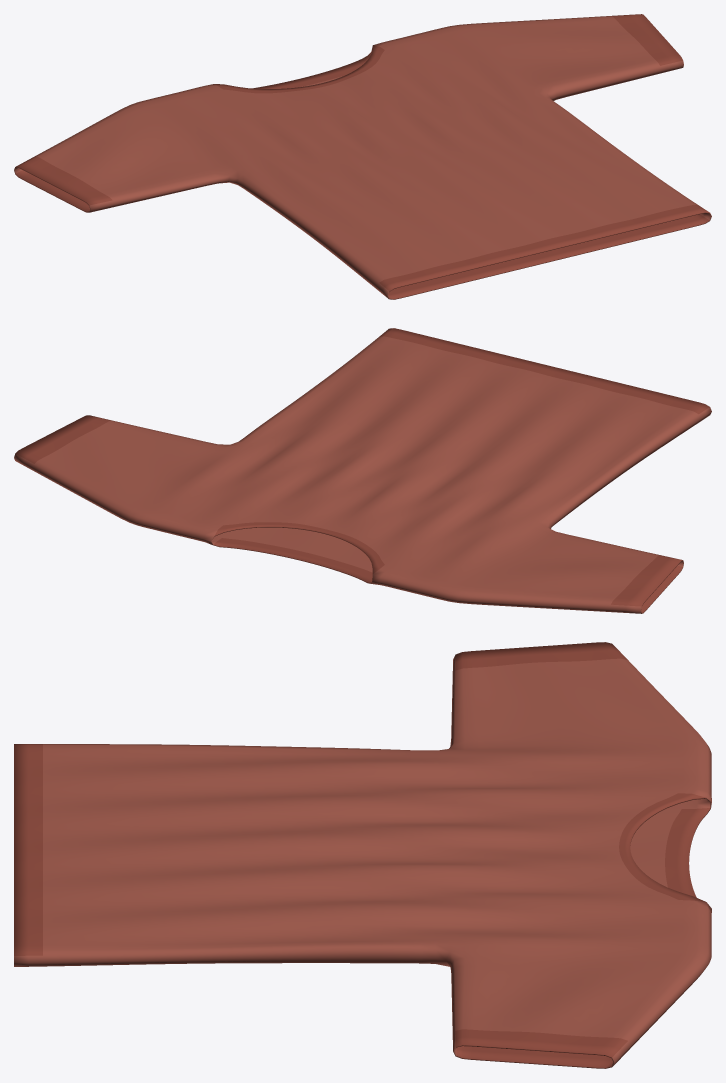
The picture shows the model from 3 angles, top to bottom: view 1: azimuth 30°, elevation 25°; view 2: azimuth 150°, elevation 25°; view 3: azimuth 270°, elevation 25°; orthographic projection. The views are drawn at different scales.
Visible parts, largest first — view 1: Complete open short-sleeved fabric garment; view 2: Complete open short-sleeved fabric garment; view 3: Complete open short-sleeved fabric garment.
Part boxes in pixels (x1,y1,x2,y2): Complete open short-sleeved fabric garment: (14,14,711,299); Complete open short-sleeved fabric garment: (14,328,711,613); Complete open short-sleeved fabric garment: (14,642,711,1068).
Size of the model in its own units: 92.63 by 2.55 by 65.98.
